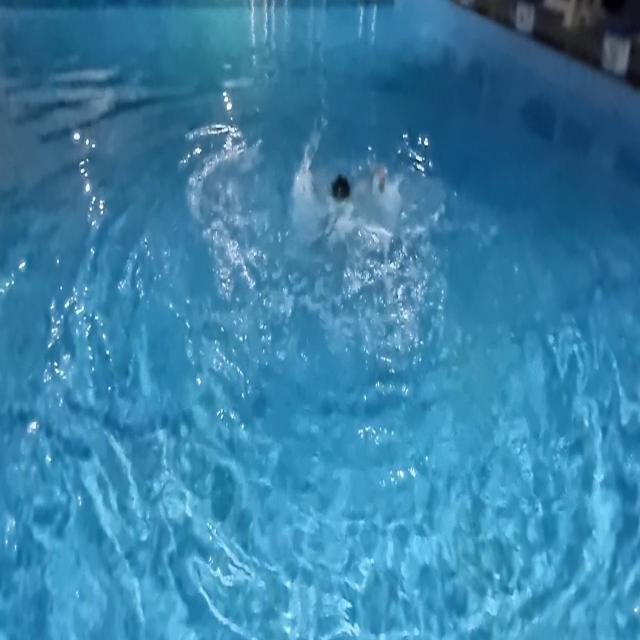Drowning: (274, 117, 462, 294)
